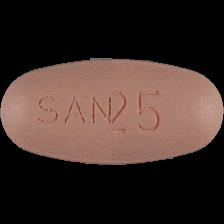65597-107: (0, 0, 224, 224)
